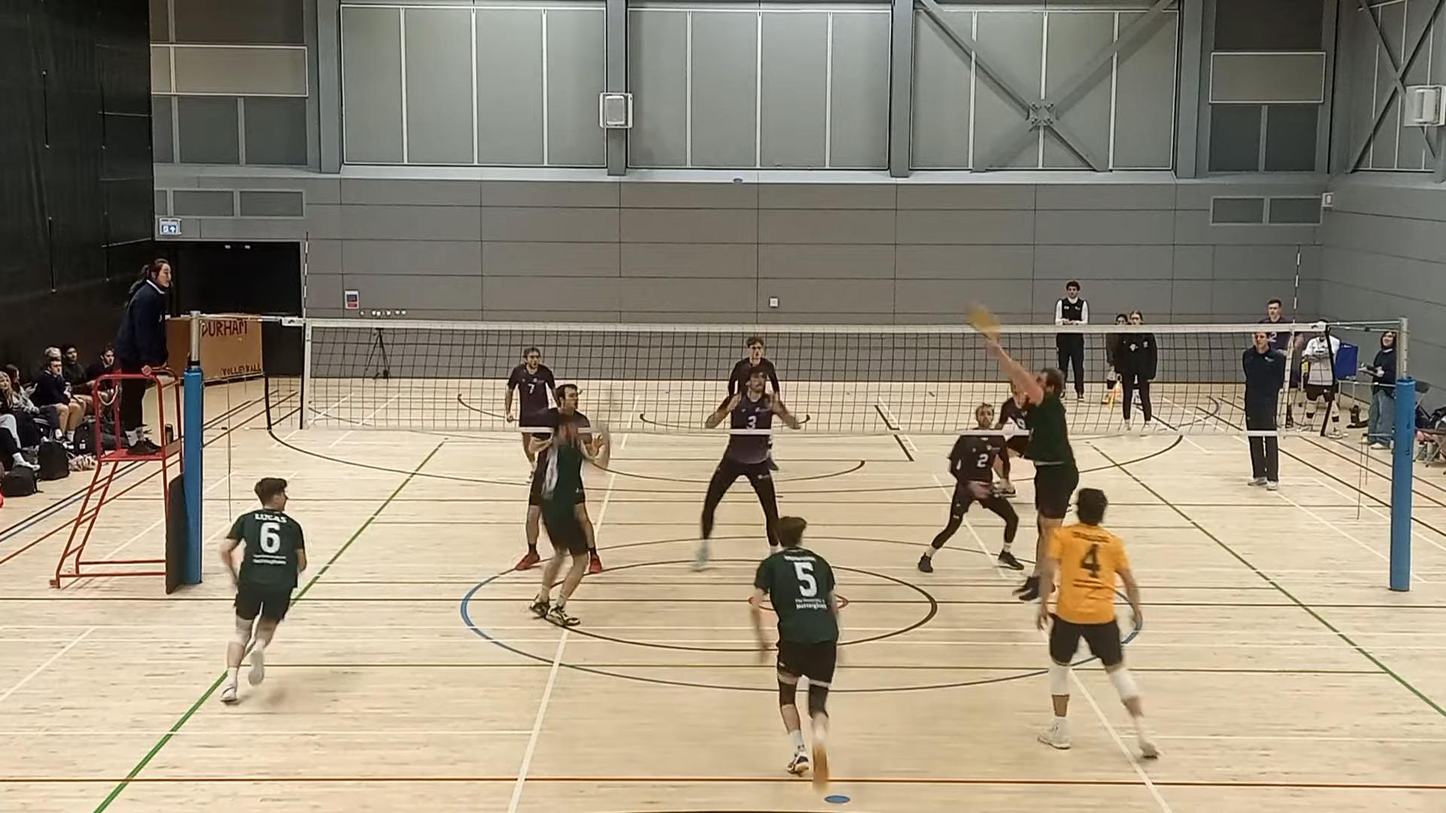Player: (1037, 488, 1158, 758), (749, 516, 839, 783), (696, 369, 801, 568), (220, 477, 306, 703), (515, 384, 608, 569), (532, 411, 607, 627), (917, 434, 1023, 572), (504, 347, 556, 428), (995, 385, 1027, 495), (728, 335, 780, 397)
Set: (969, 325, 1078, 589)
ball: (957, 296, 1004, 334)
